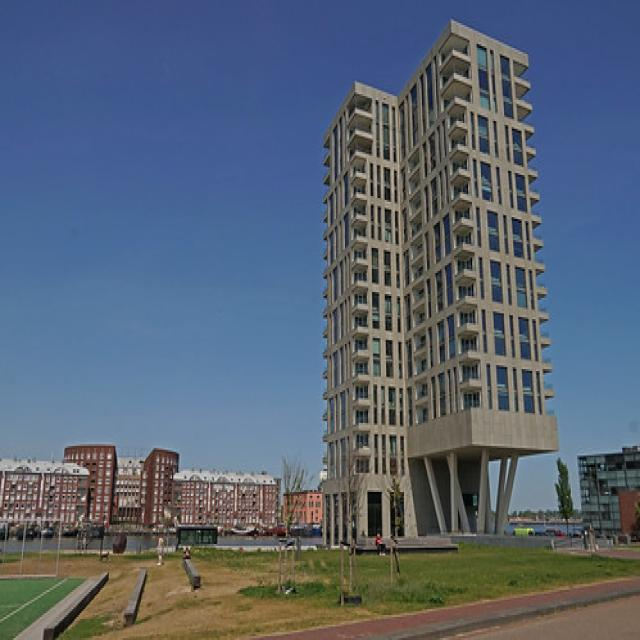building: (312, 12, 564, 550)
